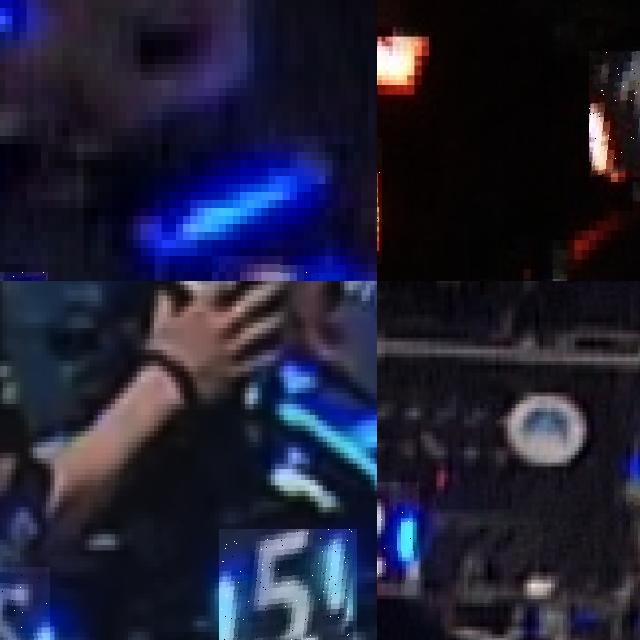B2: (377, 482, 418, 579)
B3: (211, 256, 346, 281)
B5: (218, 528, 357, 640), (0, 566, 50, 640)
R1: (589, 51, 640, 177)
